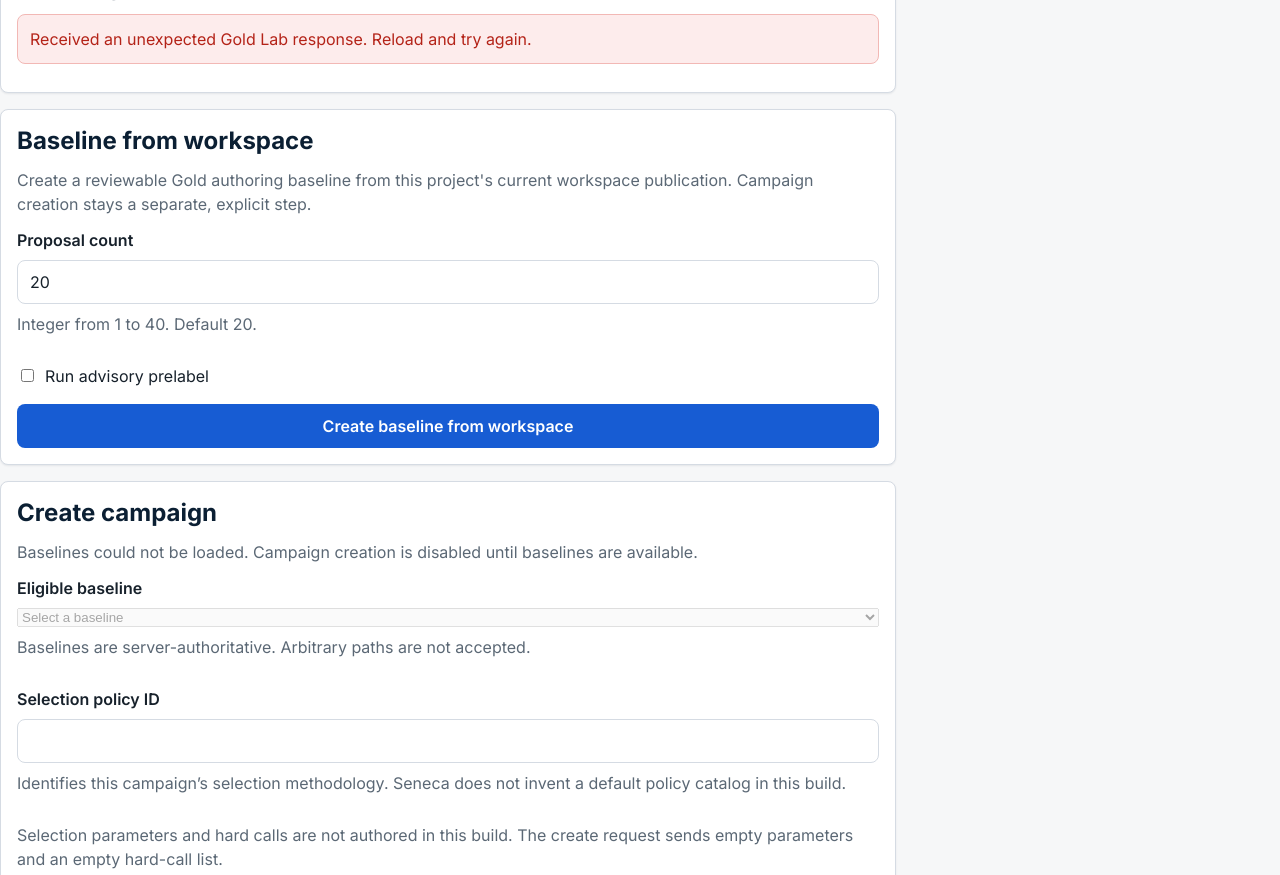
Test case: GAP-16G-02 baseline bootstrap UI › posts only proposal_count and prelabel_enabled and surfaces success handoff
This screenshot has width=1280, height=875.
(page scrolled)
Click the button "Create baseline from workspace".
click(448, 426)  # box [17, 404, 879, 448]
(page scrolled)
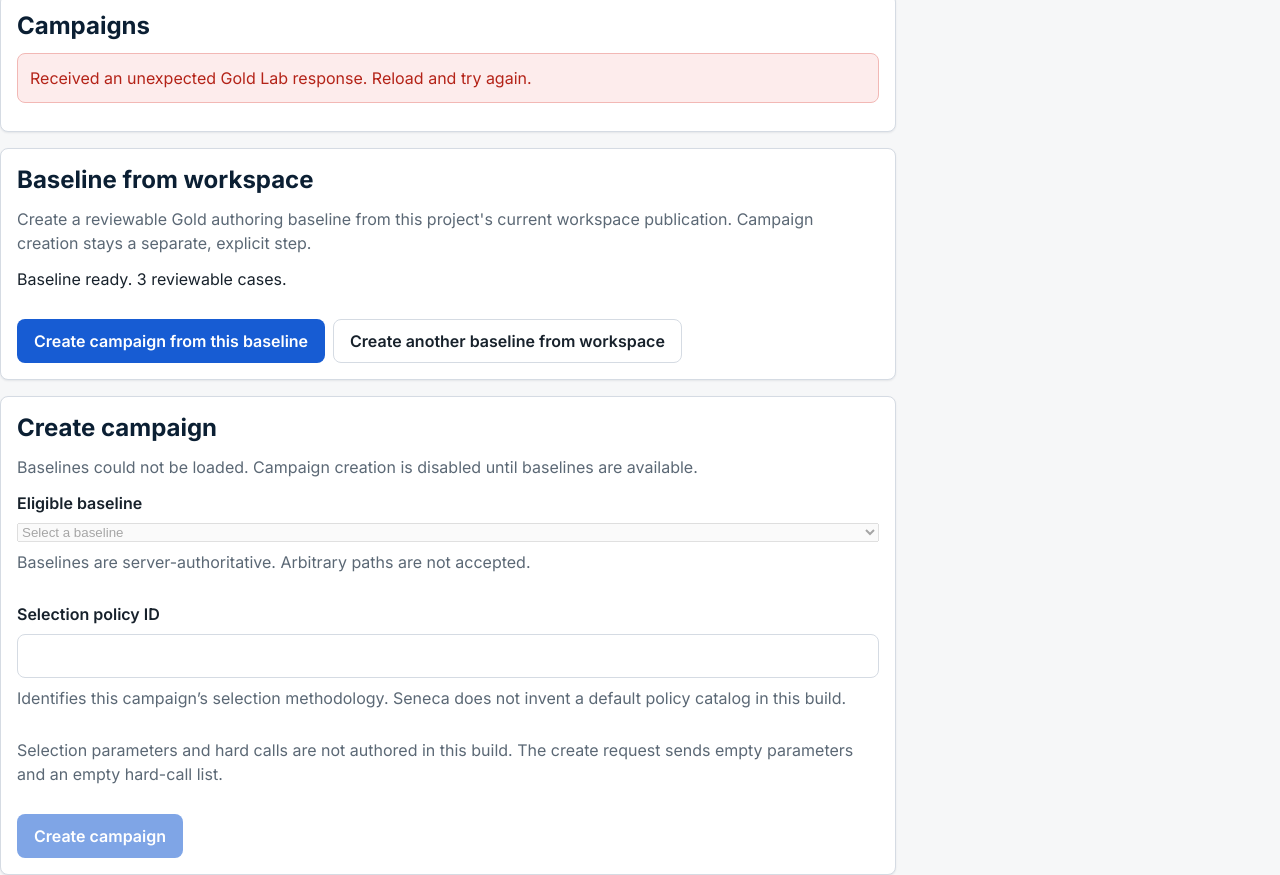
expect the element with test id "gold-bootstrap-success" is shown: met, box [17, 269, 682, 363]
expect the button "Create campaign from this baseline" is shown: met, box [17, 319, 325, 363]
